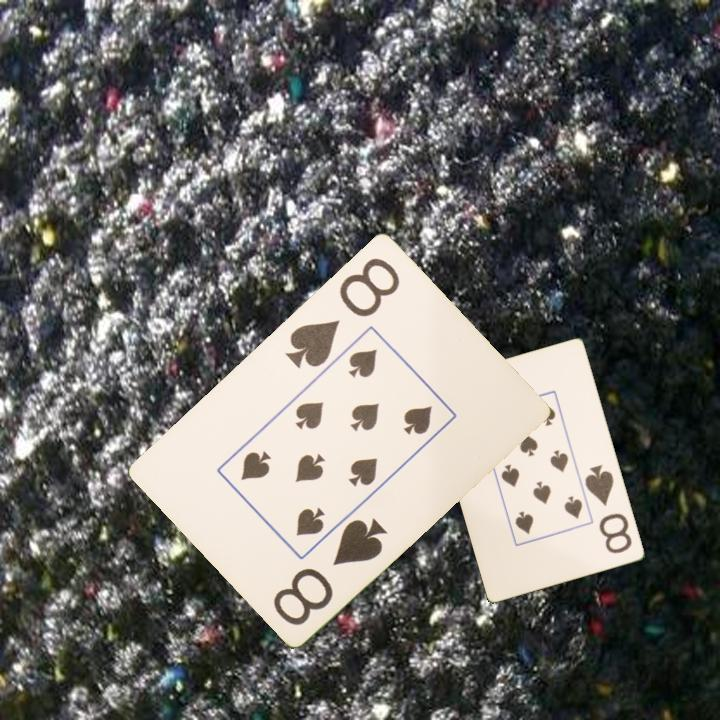8s: (282, 253, 403, 371), (269, 514, 390, 628), (582, 461, 635, 557)
